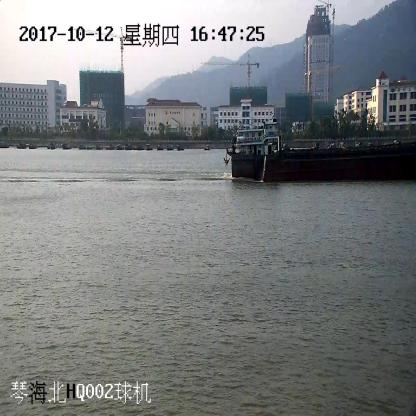Bulk Carrier: (225, 122, 416, 181)
